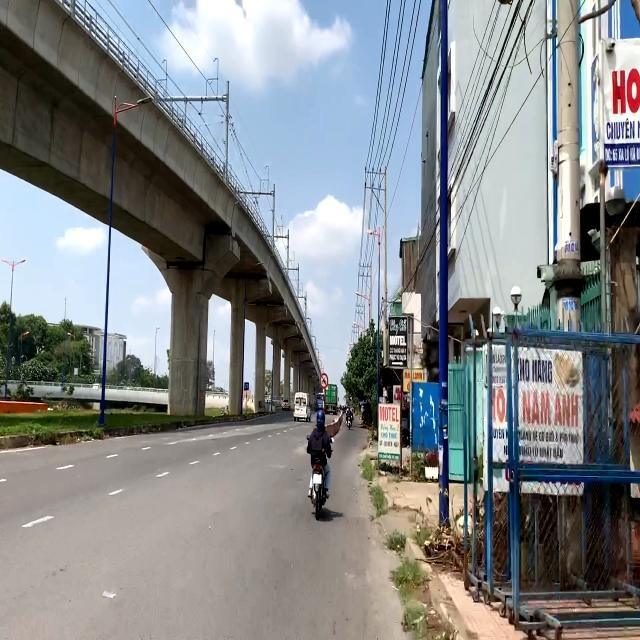bien_cam: (320, 372, 328, 389), (244, 382, 249, 391)
